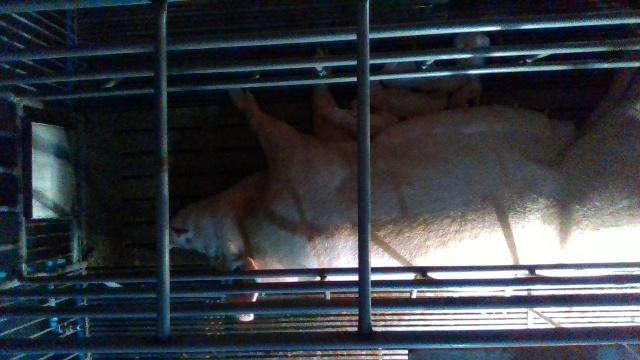piglet: (372, 78, 482, 114), (382, 59, 470, 95), (326, 102, 399, 141), (452, 32, 486, 110)
sow-sleep-lactate: (169, 68, 640, 322)
